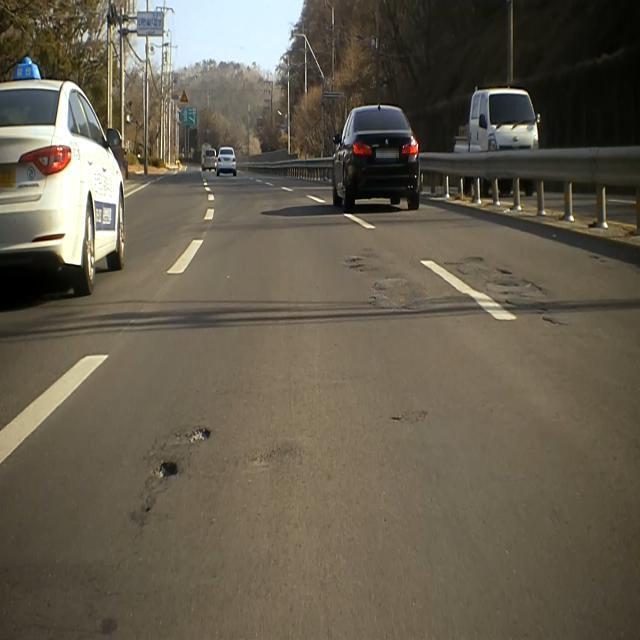pothole: (451, 248, 568, 343), (147, 417, 217, 489)
